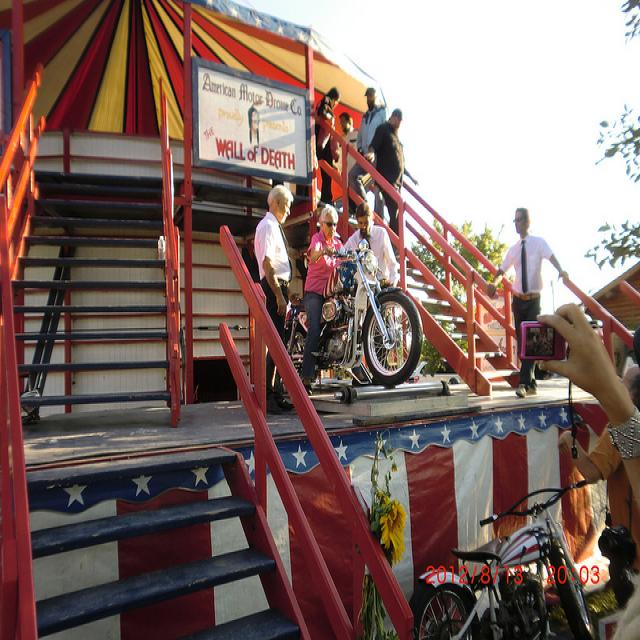motor: (283, 239, 422, 387)
